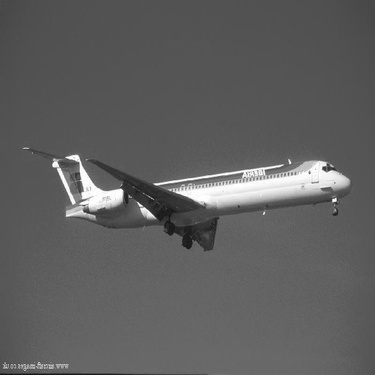airplane: (12, 125, 359, 265)
